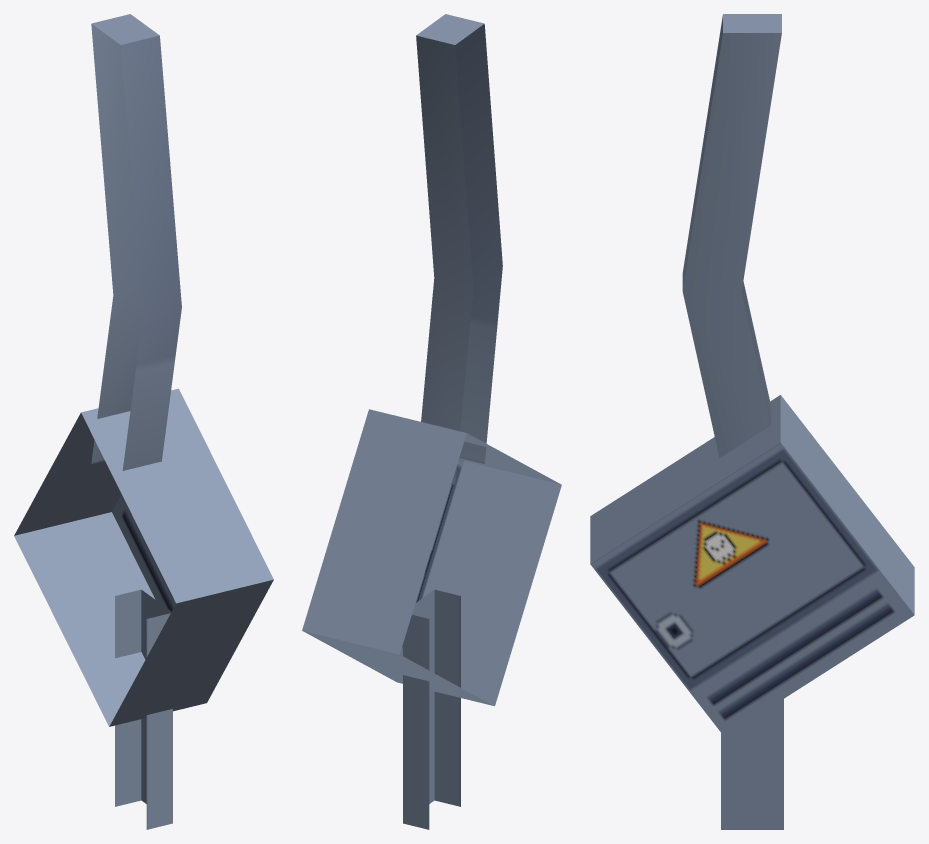
Rendered from CaixaDeForcaQuebrada.fbx.
The picture shows the model from 3 angles, left to right: view 1: azimuth 30°, elevation 25°; view 2: azimuth 150°, elevation 25°; view 3: azimuth 270°, elevation 25°; orthographic projection.
Visible parts, largest first — view 1: caixa de forca; view 2: caixa de forca; view 3: caixa de forca.
Part boxes in pixels (box(x1,y1,x2,y2)): caixa de forca: box(14, 14, 273, 829); caixa de forca: box(302, 14, 561, 829); caixa de forca: box(590, 14, 914, 829).
Bounding box in the file's own units: 35.7 × 102 × 276.
